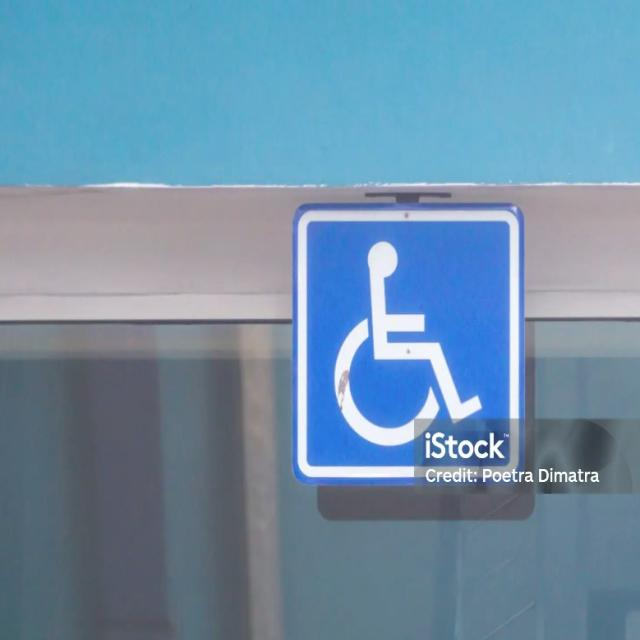symbol_of_access: (290, 200, 526, 490)
